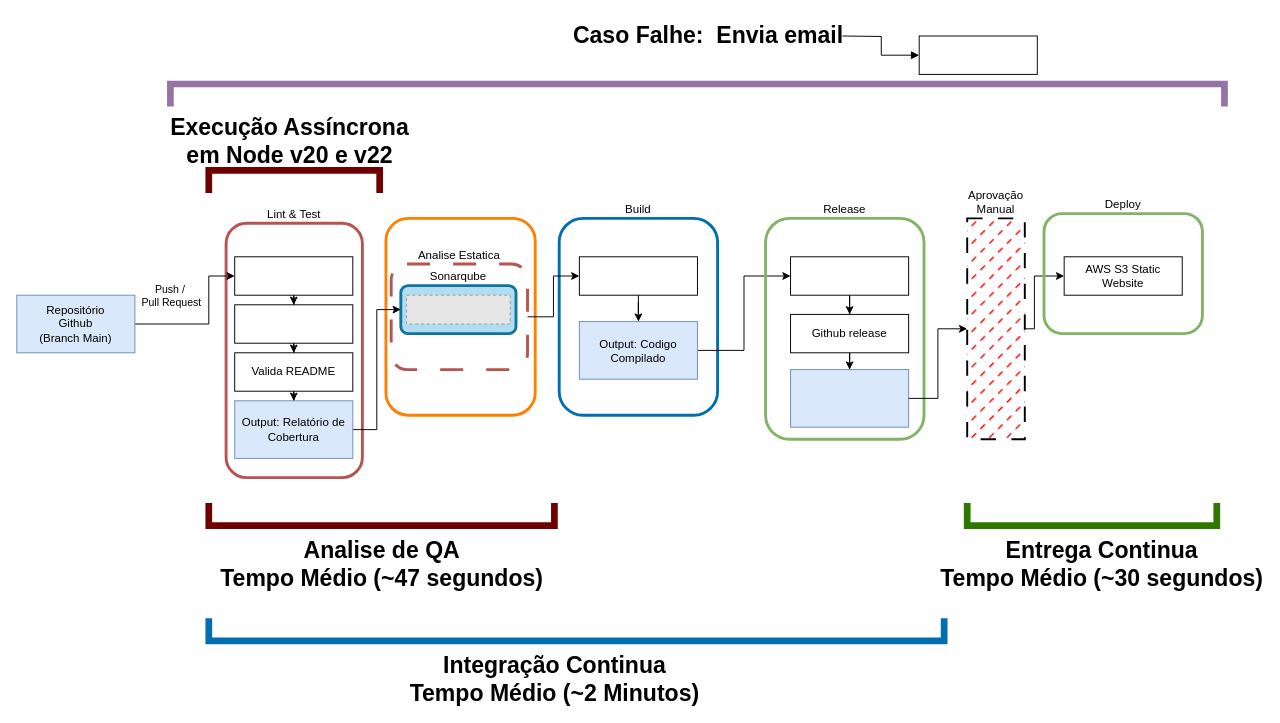
Image size: 1280x723. Some labels were removed from this diagram. Grey dashed boxes stand in for pictures. The box of each missing label's shape, as (x1, y1, x2, y2) in pixels:
auto git tag: (790, 256, 909, 295)
AWS SES Service: (918, 35, 1037, 74)
npm run build: (578, 256, 697, 295)
npm run lint: (234, 256, 353, 295)
Output: release: (790, 369, 909, 427)
Quality Gate: (384, 216, 536, 416)
rpm run test: (234, 304, 353, 343)
